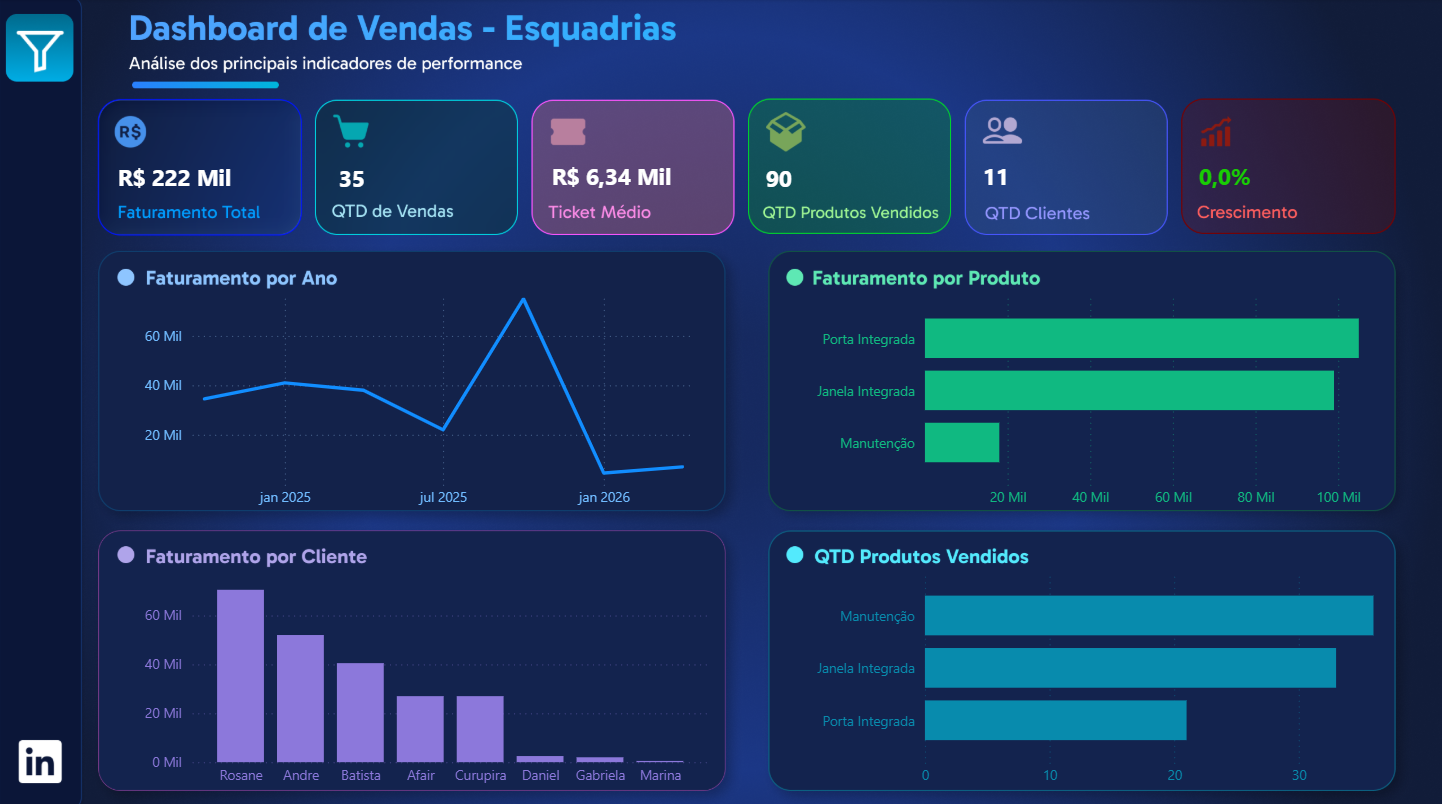

Layout of this report page (visuals, bound fields, positions):
{"tool":"powerbi","page":{"name":"Página 1","canvas":[1280,720],"ordinal":0},"visuals":[{"type":"cardVisual","fields":{"Data":["Itens_Vendas.Qtd Vendas"]},"box":[272.2,127.7,152.5,58.5],"z":0},{"type":"cardVisual","fields":{"Data":["Itens_Vendas.Ticekt Médio"]},"box":[461.1,122.4,179.1,66.5],"z":1000},{"type":"cardVisual","fields":{"Data":["Itens_Vendas.QTD produtos Vendidos"]},"box":[650.8,122.4,122.4,68.3],"z":2000},{"type":"cardVisual","fields":{"Data":["Itens_Vendas.QTD clientes"]},"box":[843.3,124.1,96.7,63],"z":3000},{"type":"lineChart","fields":{"Y":["Itens_Vendas.Faturamento Total"],"Category":["Calendario.Date.Variation.Hierarquia de datas.Ano","Calendario.Date.Variation.Hierarquia de datas.Trimestre"]},"box":[124.1,251.8,509.9,208.4],"z":4000},{"type":"barChart","fields":{"Category":["Produtos.Produto"],"Y":["Itens_Vendas.Faturamento Total"]},"box":[712,251.8,518.7,208.4],"z":5000},{"type":"columnChart","fields":{"Category":["Clientes.Cliente"],"Y":["Itens_Vendas.Faturamento Total"]},"box":[124.1,509.9,509.9,196.8],"z":6000},{"type":"barChart","fields":{"Category":["Produtos.Produto"],"Y":["Itens_Vendas.QTD produtos Vendidos"]},"box":[712,497.4,518.7,209.3],"z":7000},{"type":"cardVisual","fields":{"Data":["Vendas.Crescimento % mensal"]},"box":[1034.8,118.8,106.4,73.6],"z":8000},{"type":"cardVisual","fields":{"Data":["Itens_Vendas.Faturamento Total"]},"box":[76.3,125,181.8,63.8],"z":9000},{"type":"actionButton","box":[9.1,10.9,57.9,70.6],"z":11000}]}

Visuals, with their boxes in screenshot pixels (x1, y1, x2, y2), scaled from the page's 1280x720 canvas onto the 1442x804 screenshot:
cardVisual - Itens_Vendas.Qtd Vendas: region(307, 143, 478, 208)
cardVisual - Itens_Vendas.Ticekt Médio: region(519, 137, 721, 211)
cardVisual - Itens_Vendas.QTD produtos Vendidos: region(733, 137, 871, 213)
cardVisual - Itens_Vendas.QTD clientes: region(950, 139, 1059, 209)
lineChart - Itens_Vendas.Faturamento Total x Calendario.Date.Variation.Hierarquia de datas.Ano: region(140, 281, 714, 514)
barChart - Produtos.Produto x Itens_Vendas.Faturamento Total: region(802, 281, 1386, 514)
columnChart - Clientes.Cliente x Itens_Vendas.Faturamento Total: region(140, 569, 714, 789)
barChart - Produtos.Produto x Itens_Vendas.QTD produtos Vendidos: region(802, 555, 1386, 789)
cardVisual - Vendas.Crescimento % mensal: region(1166, 133, 1286, 215)
cardVisual - Itens_Vendas.Faturamento Total: region(86, 140, 291, 211)
actionButton: region(10, 12, 75, 91)
